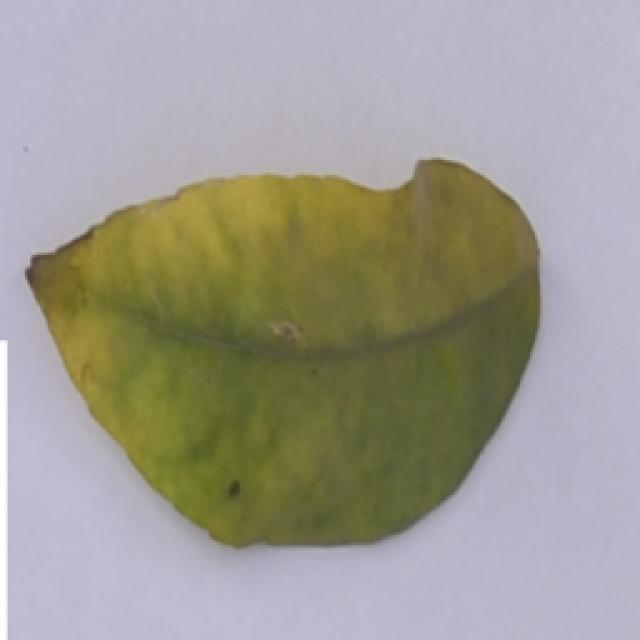greening: (31, 152, 561, 568)
